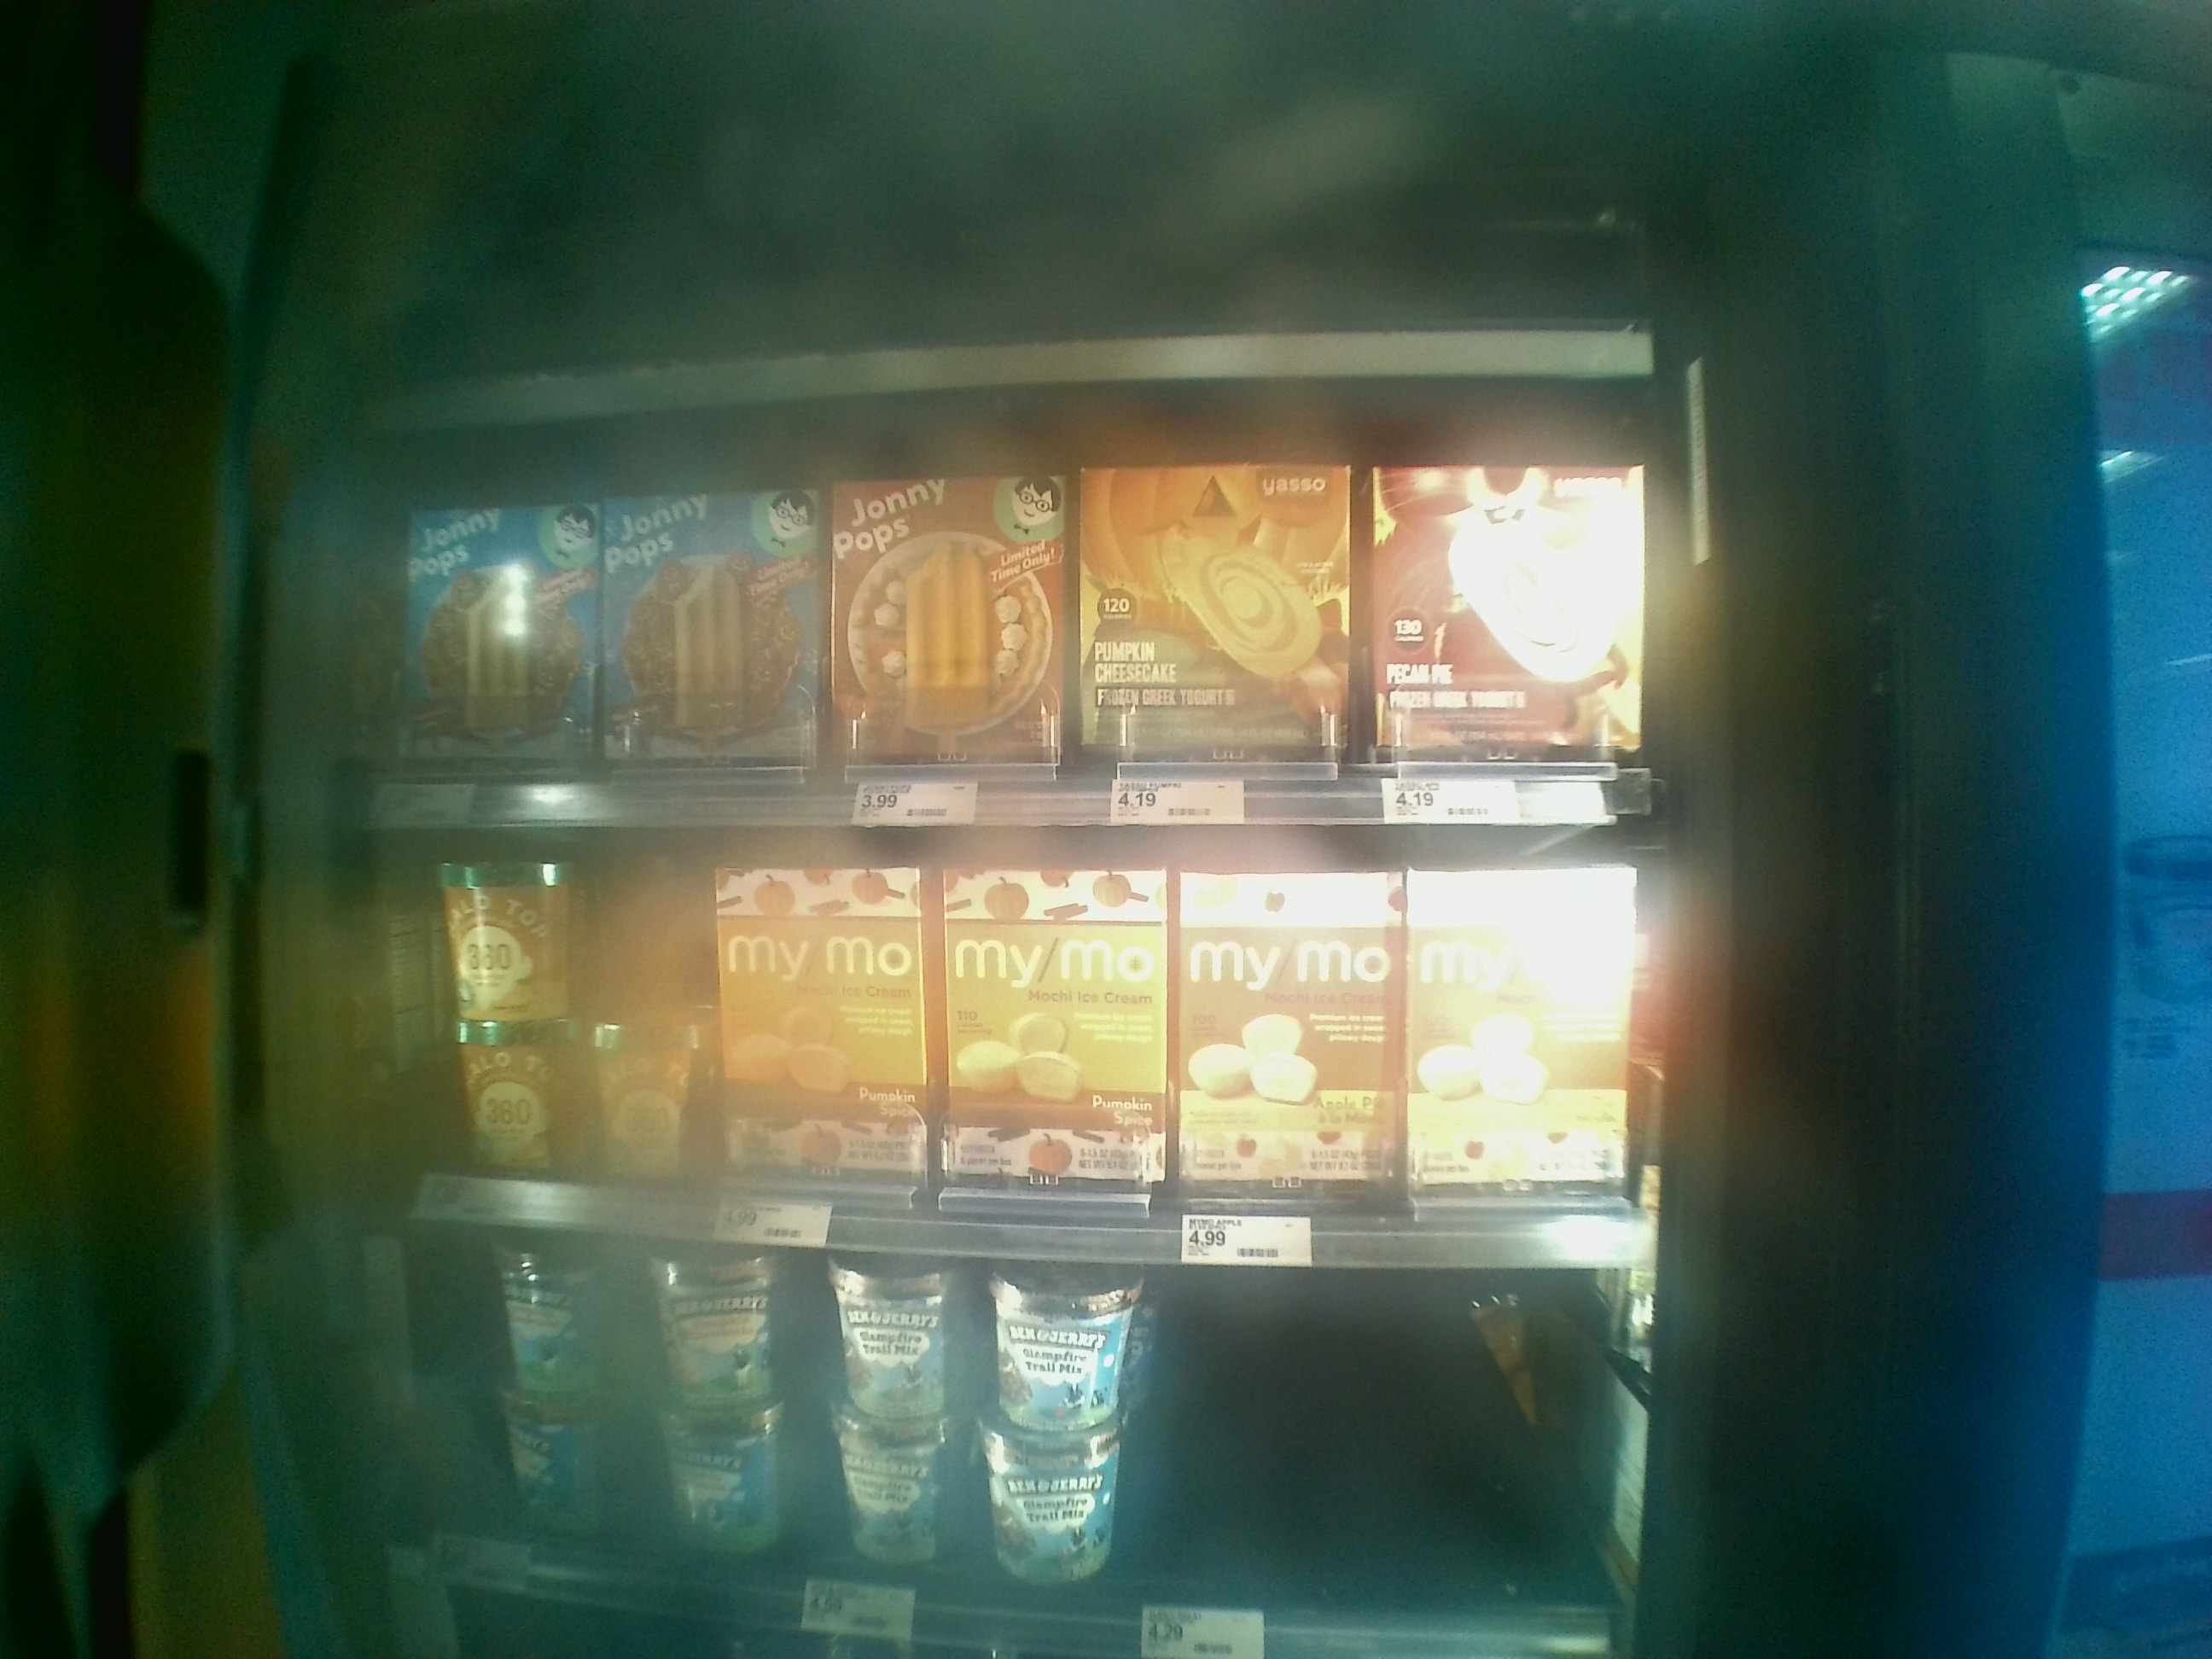shelf: (338, 788, 1655, 1260), (355, 455, 1669, 807)
